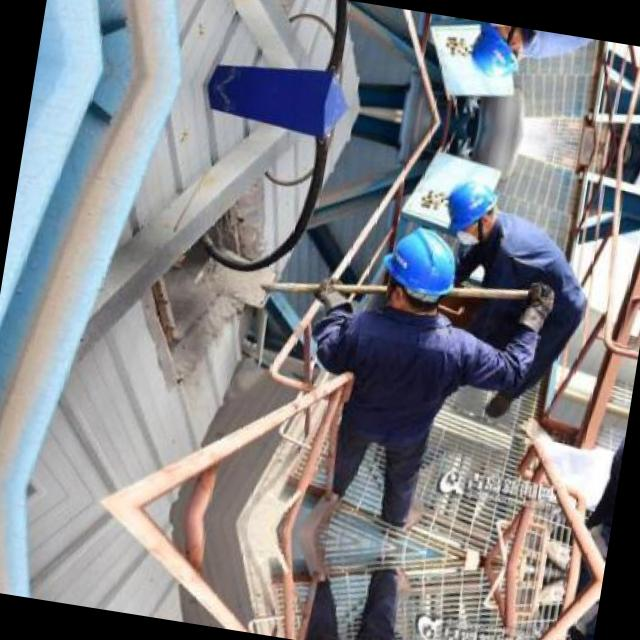helmet: (378, 216, 467, 318), (430, 164, 510, 254), (456, 19, 534, 95)
